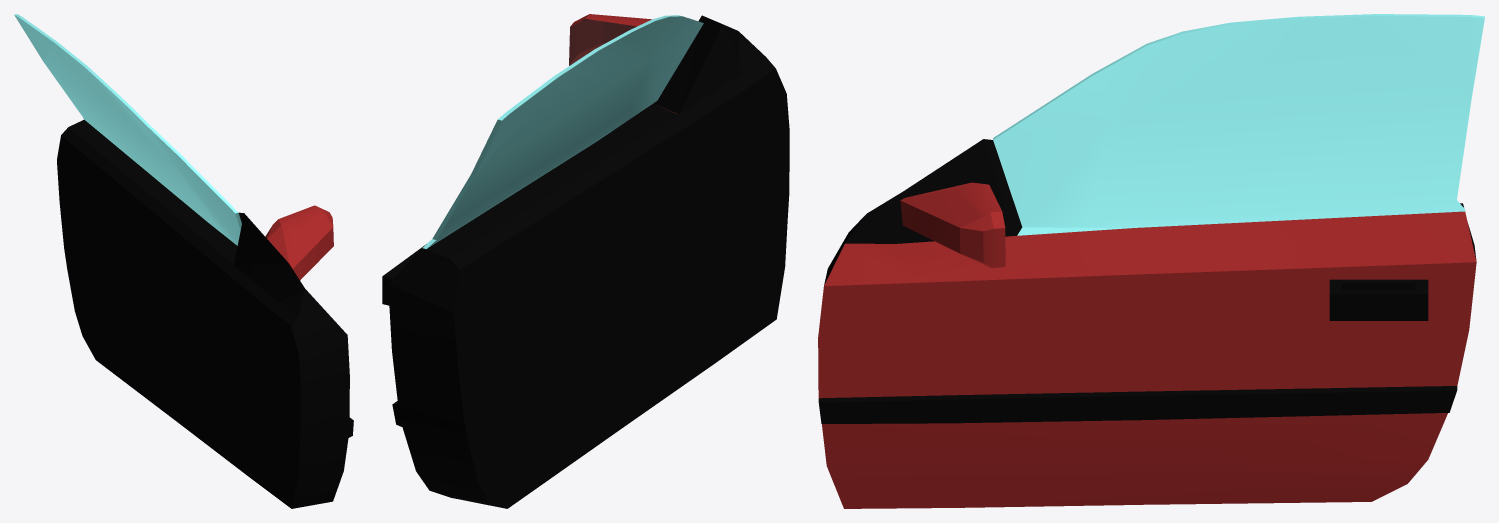
File: CarDoorFL.dae
3 renders of one model, left to right at view 1: azimuth 30°, elevation 25°; view 2: azimuth 150°, elevation 25°; view 3: azimuth 270°, elevation 25°, orthographic. The views are drawn at different scales.
Parts seen in each view (by area): view 1: SketchUp (×3); view 2: SketchUp (×5); view 3: SketchUp (×7).
Part boxes in pixels (bbox=[...]): SketchUp (×3): bbox=[14, 14, 353, 508]; SketchUp (×5): bbox=[382, 14, 789, 508]; SketchUp (×7): bbox=[818, 14, 1484, 508].
Size of the model in its own units: 16.33 by 53.25 by 39.08.
